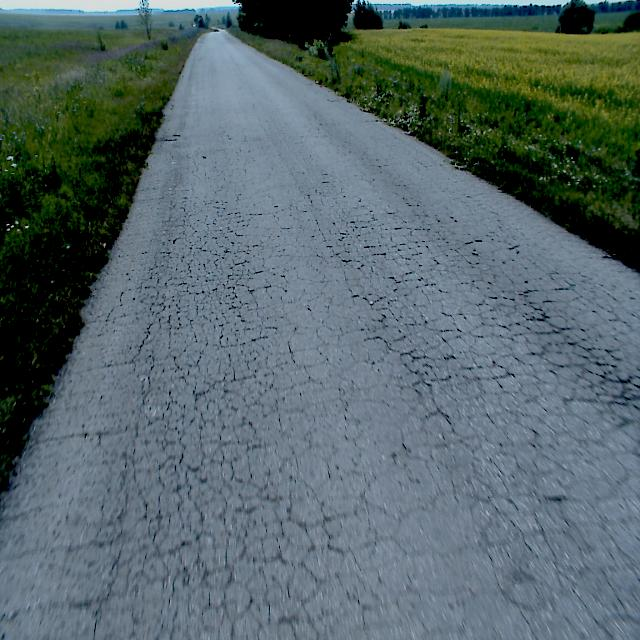road: (0, 29, 640, 639)
